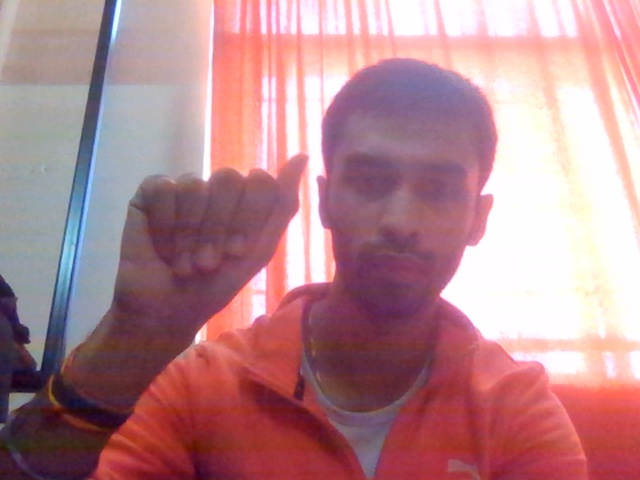A: (110, 131, 315, 352)
